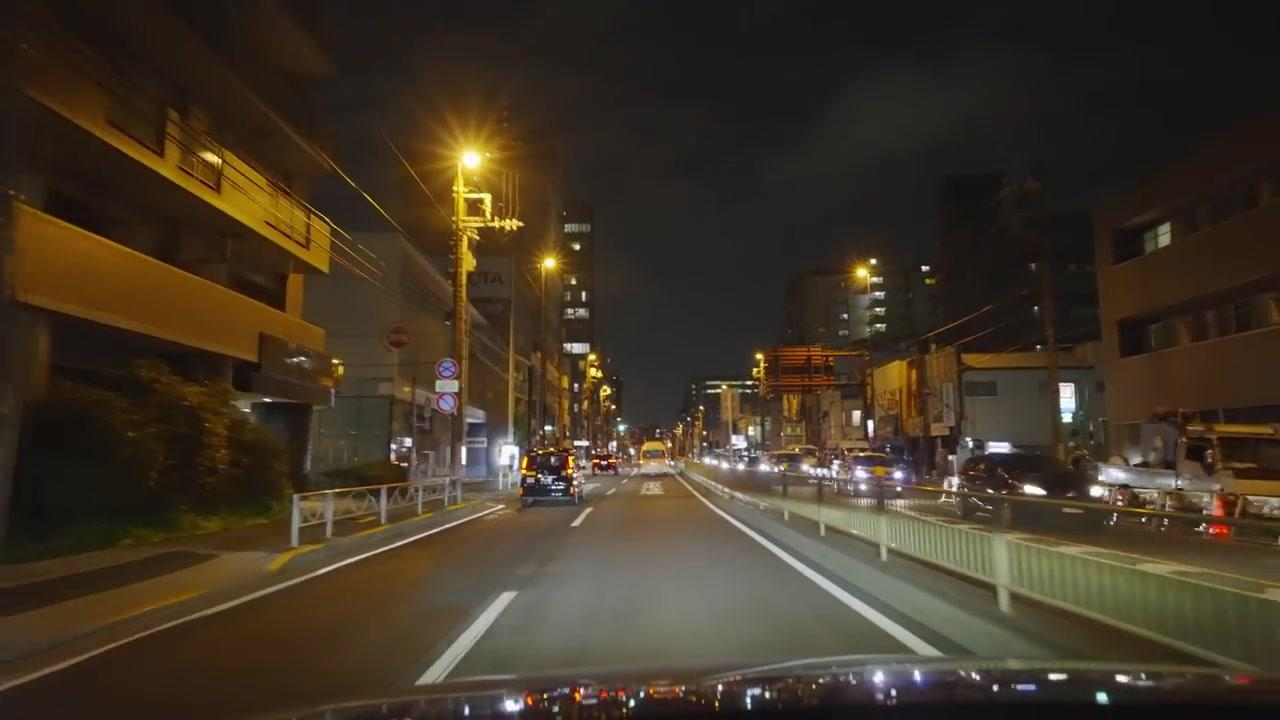bus: (638, 439, 668, 473)
car: (953, 449, 1110, 526), (520, 450, 584, 507), (835, 453, 911, 496), (766, 448, 820, 489), (389, 436, 414, 464), (729, 452, 760, 468), (595, 458, 619, 474)
